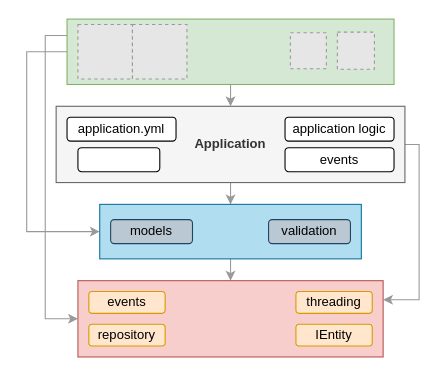
Some shapes in this 447 by 376 pixel diagram are drawn without their labels. Grey dashed boxes stand in for pictures. Each missing label, with the box of its shape:
Domain: (99, 203, 361, 259)
Infrastructure: (77, 280, 383, 357)
Presentation: (66, 18, 394, 84)
state: (77, 147, 160, 172)
